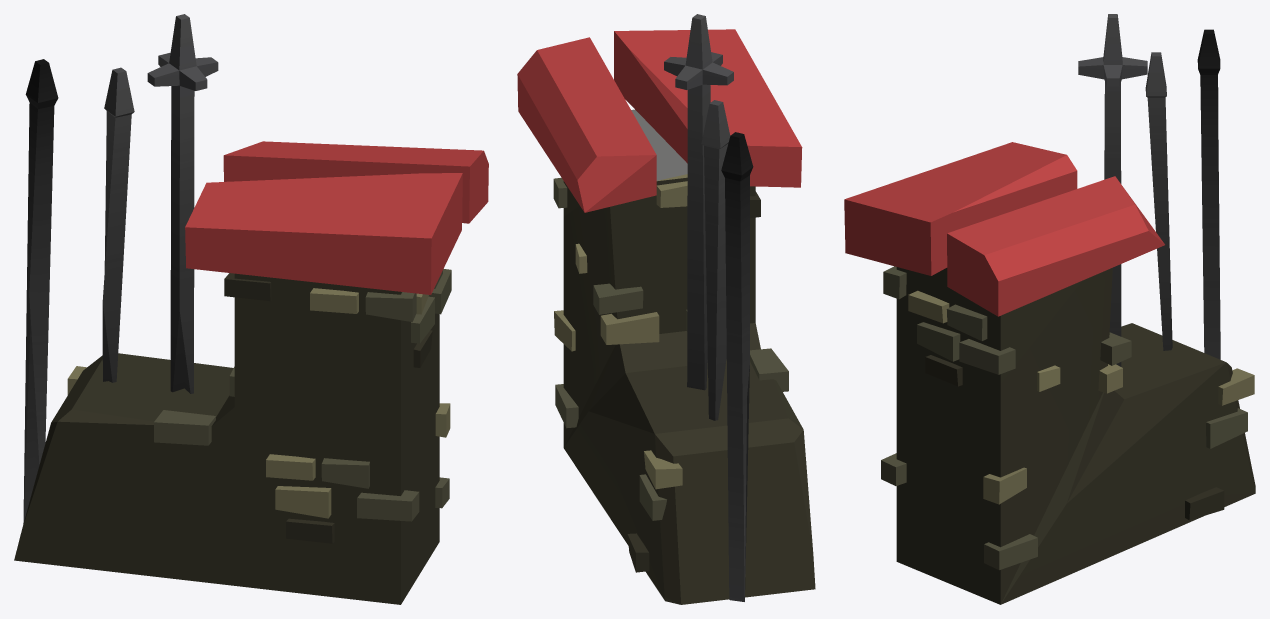
File: ea_arch_wall03_end_01b__pre_5_lev1.glb
3 renders of one model, left to right at view 1: azimuth 30°, elevation 25°; view 2: azimuth 150°, elevation 25°; view 3: azimuth 270°, elevation 25°, orthographic. The views are drawn at different scales.
Visible parts, largest first — view 1: ea_arch_wall03_end_01b__pre_5_lev1; view 2: ea_arch_wall03_end_01b__pre_5_lev1; view 3: ea_arch_wall03_end_01b__pre_5_lev1.
Part boxes in pixels (x1=…): ea_arch_wall03_end_01b__pre_5_lev1: x1=14, y1=14, x2=488, y2=604; ea_arch_wall03_end_01b__pre_5_lev1: x1=517, y1=14, x2=815, y2=604; ea_arch_wall03_end_01b__pre_5_lev1: x1=844, y1=14, x2=1255, y2=604.
Bounding box in the file's own units: 2.08 × 2.71 × 2.03.
Materials: 1 (1 with a texture image).
